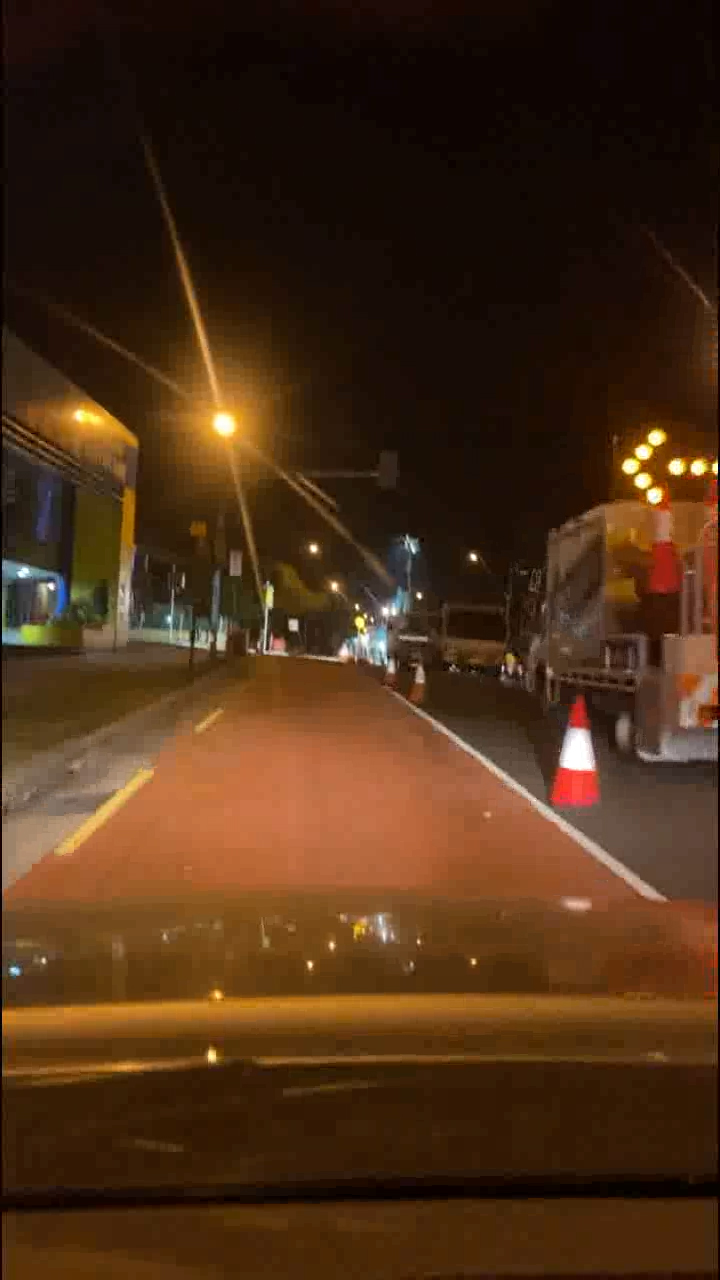road cone: (406, 654, 437, 719), (367, 640, 398, 705)
truck: (500, 419, 716, 782)
